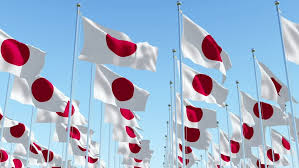Japanese Flag: (79, 13, 159, 72), (176, 9, 233, 83), (89, 63, 152, 114), (9, 75, 67, 113), (252, 57, 295, 107), (178, 62, 233, 101)
